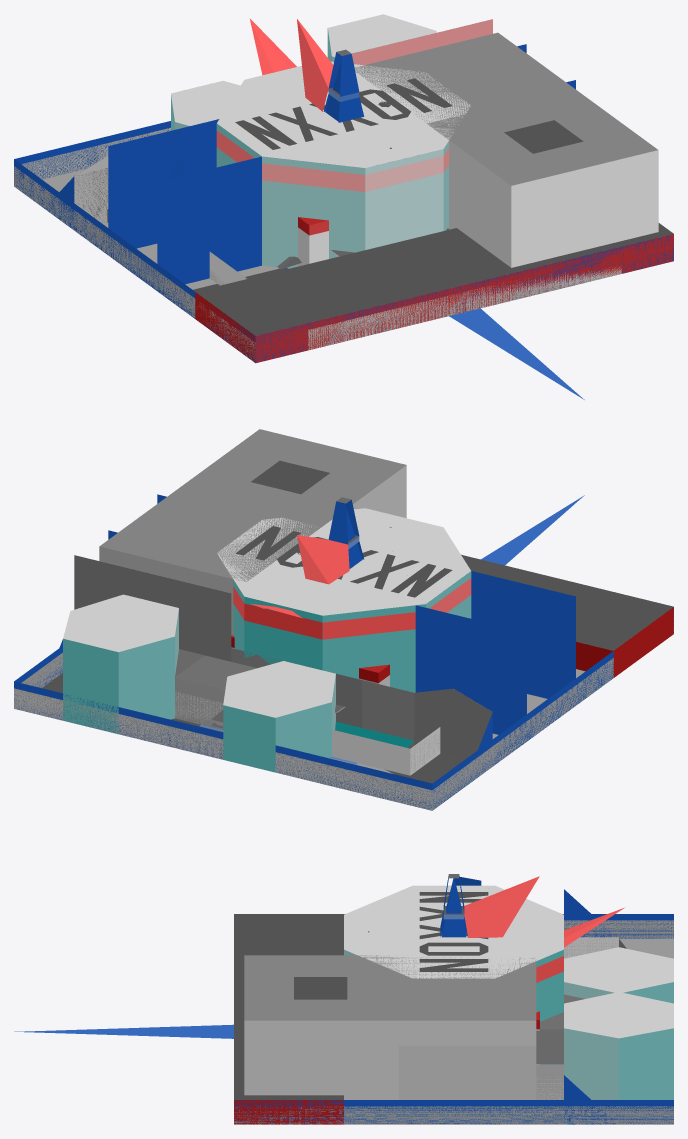
The model's file is photo.glb.
3 renders of one model, top to bottom at view 1: azimuth 30°, elevation 25°; view 2: azimuth 150°, elevation 25°; view 3: azimuth 270°, elevation 25°, orthographic. The views are drawn at different scales.
Visible parts, largest first — view 1: photo_009_lod0, photo_004_lod0_s1v0, photo_002_lod0_s1v0, photo_002_lod1_s1v0, photo_010_lod0, photo_012_lod0, photo_009_lod0_s1v0, photo_011_lod0_s1v0, photo_008_lod0, photo_003_lod0, photo_008_lod0_s1v1, photo_018_lod0 (+2 smaller); view 2: photo_004_lod0_s1v0, photo_009_lod0, photo_009_lod0_s1v0, photo_002_lod1_s1v0, photo_002_lod0_s1v0, photo_012_lod0, photo_010_lod0, photo_011_lod0_s1v0, photo_011_lod1_s1v0, photo_008_lod0_s1v1, photo_002_lod0, photo_008_lod0 (+2 smaller); view 3: photo_002_lod0_s1v0, photo_002_lod1_s1v0, photo_009_lod0_s1v0, photo_004_lod0_s1v0, photo_012_lod0, photo_009_lod0, photo_010_lod0, photo_002_lod0, photo_008_lod0_s1v1, photo_011_lod0_s1v0, photo_003_lod0, photo_014_lod0 (+2 smaller).
Boxes of the visible parts, x1,y1,x2,y2 form: photo_009_lod0: (108,44,673,362); photo_004_lod0_s1v0: (216,61,470,268); photo_002_lod0_s1v0: (427,88,658,267); photo_002_lod1_s1v0: (354,32,653,266); photo_010_lod0: (14,127,621,361); photo_012_lod0: (14,121,673,362); photo_009_lod0_s1v0: (42,14,436,263); photo_011_lod0_s1v0: (44,19,492,291); photo_008_lod0: (298,52,364,266); photo_003_lod0: (449,308,584,399); photo_008_lod0_s1v1: (297,19,339,111); photo_018_lod0: (331,228,579,396); photo_004_lod0_s1v0: (199,508,471,732); photo_009_lod0: (108,494,673,734); photo_009_lod0_s1v0: (63,594,585,773); photo_002_lod1_s1v0: (99,429,406,689); photo_002_lod0_s1v0: (175,429,406,689); photo_012_lod0: (14,607,673,810); photo_010_lod0: (14,618,673,810); photo_011_lod0_s1v0: (42,563,492,787); photo_011_lod1_s1v0: (74,555,414,727); photo_008_lod0_s1v1: (297,535,349,584); photo_002_lod0: (175,677,225,729); photo_008_lod0: (231,500,389,686); photo_002_lod0_s1v0: (244,955,584,1099); photo_002_lod1_s1v0: (244,955,536,1099); photo_009_lod0_s1v0: (564,938,673,1099); photo_004_lod0_s1v0: (344,885,563,1021); photo_012_lod0: (234,914,673,1124); photo_009_lod0: (234,877,481,1124); photo_010_lod0: (234,920,673,1124); photo_002_lod0: (399,1045,563,1099); photo_008_lod0_s1v1: (464,876,539,937); photo_011_lod0_s1v0: (564,889,626,1124); photo_003_lod0: (14,1024,233,1038); photo_014_lod0: (441,878,466,937).
Size of what is drawn, in the model's own units: 512 by 200 by 768.
